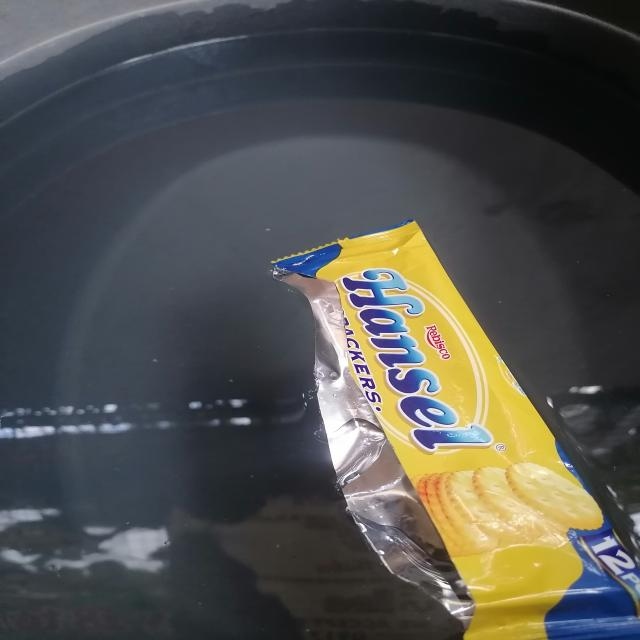Plastic Wrapper: (273, 221, 640, 640)
